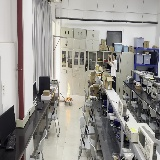fire: (66, 80, 71, 101)
